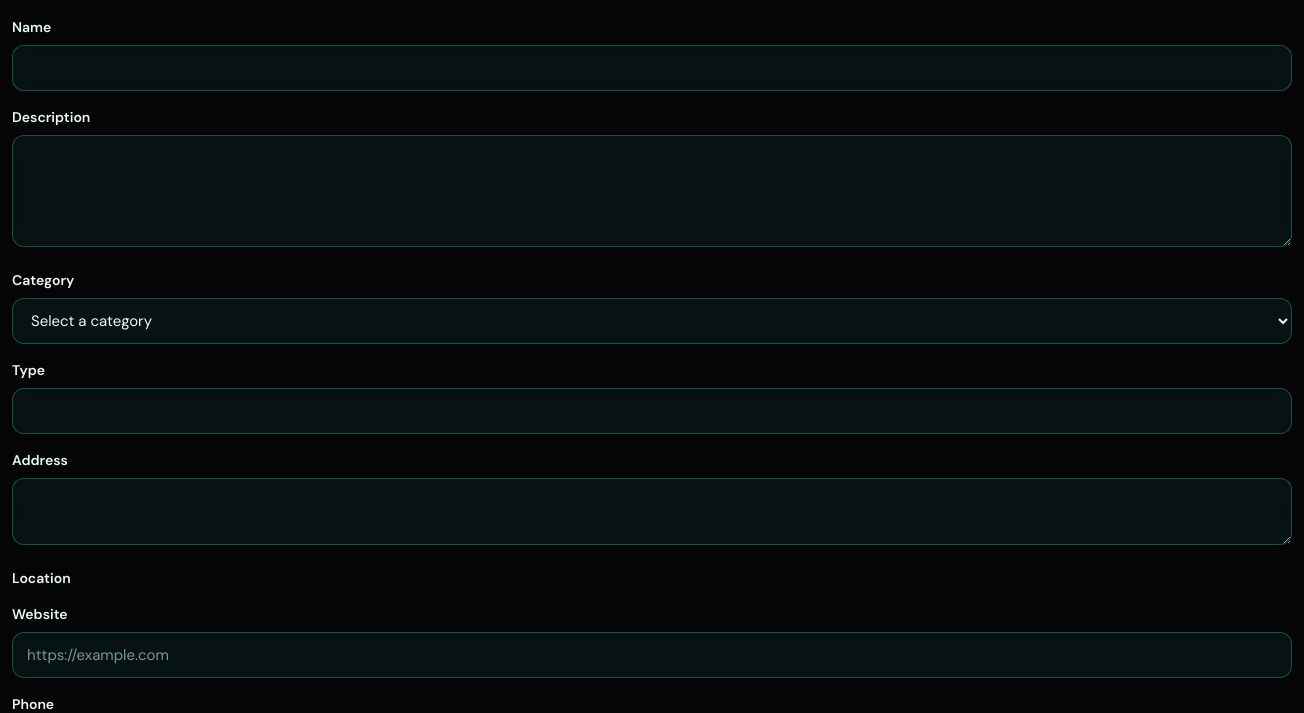
Test: BusinessForm (map-based location, D7-31) › shows location errors under the map when nothing was picked
Type "Playa Azul Hotel" into the field labelled "Name" at {"x": 652, "y": 68}, box 12,45 -> 1292,91
Type "Beachfront rooms in Puerto Viejo." into the text box labelled "Description" at {"x": 652, "y": 191}, box 12,135 -> 1292,247
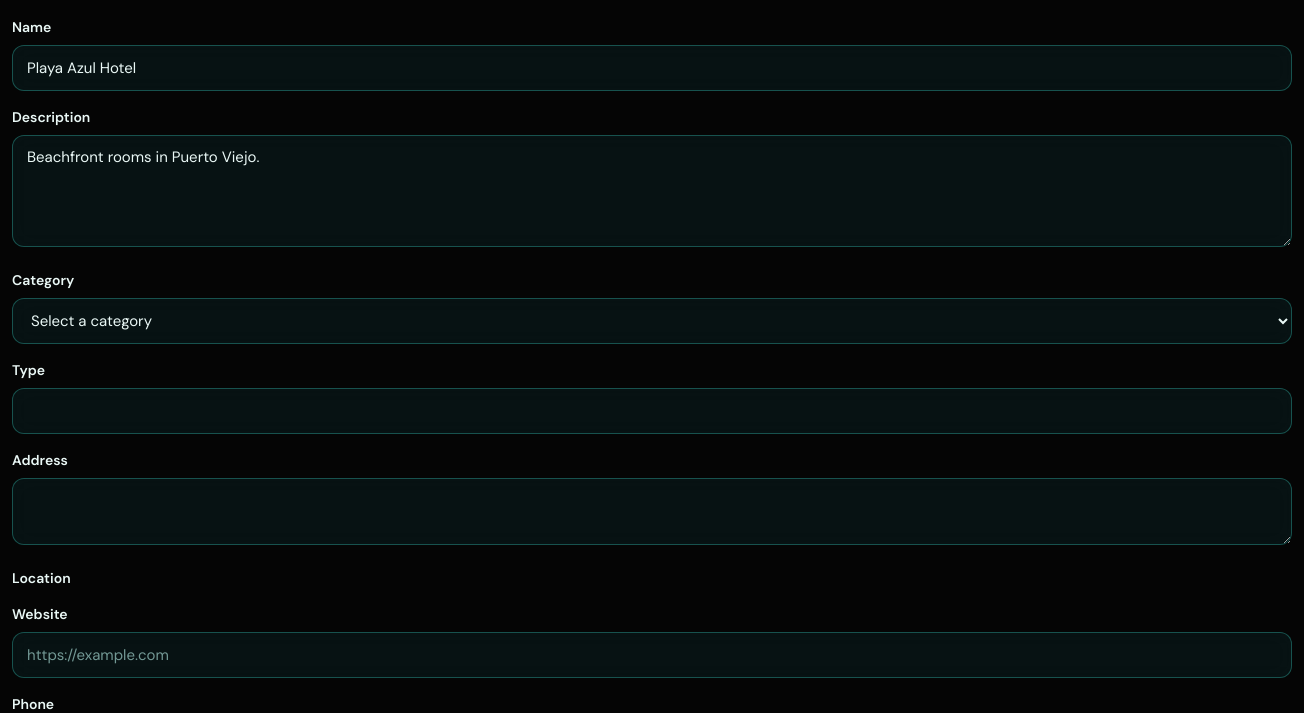
Select "Hotels" in the dropdown labelled "Category" at {"x": 652, "y": 321}, box 12,298 -> 1292,344
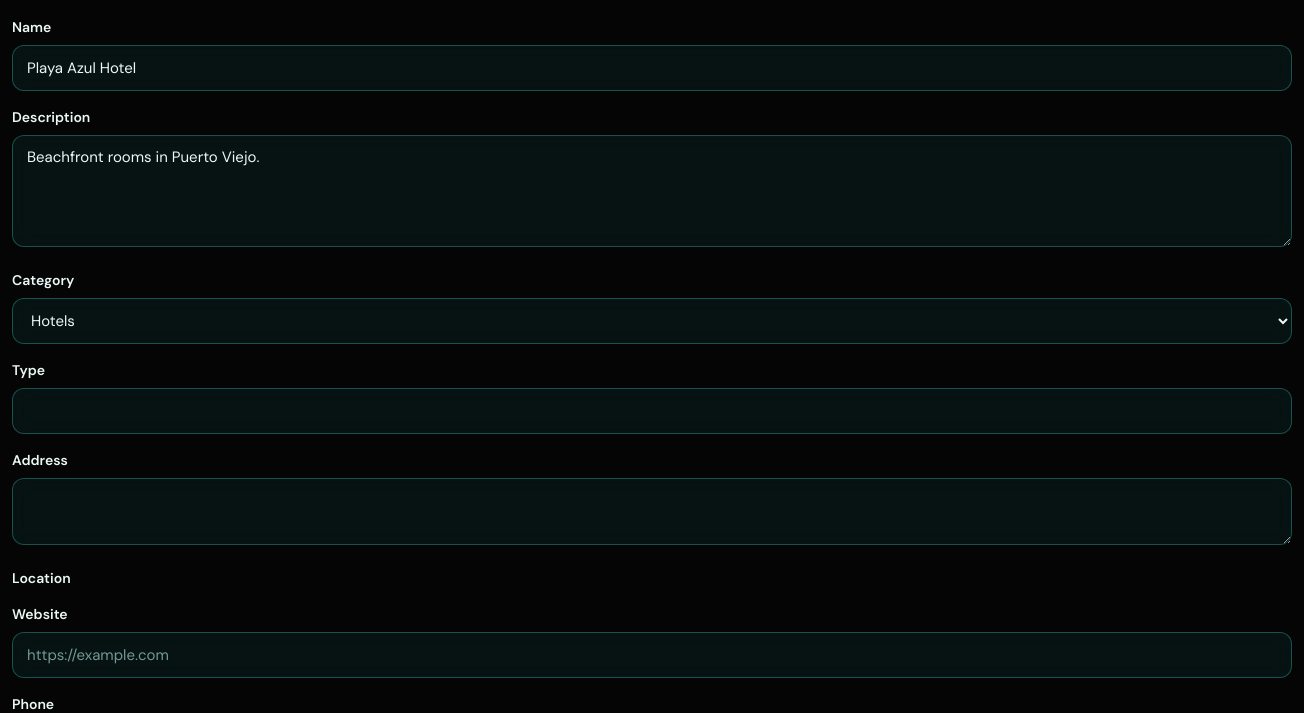
Type "Hotel" into the field labelled "Type" at {"x": 652, "y": 411}, box 12,388 -> 1292,434
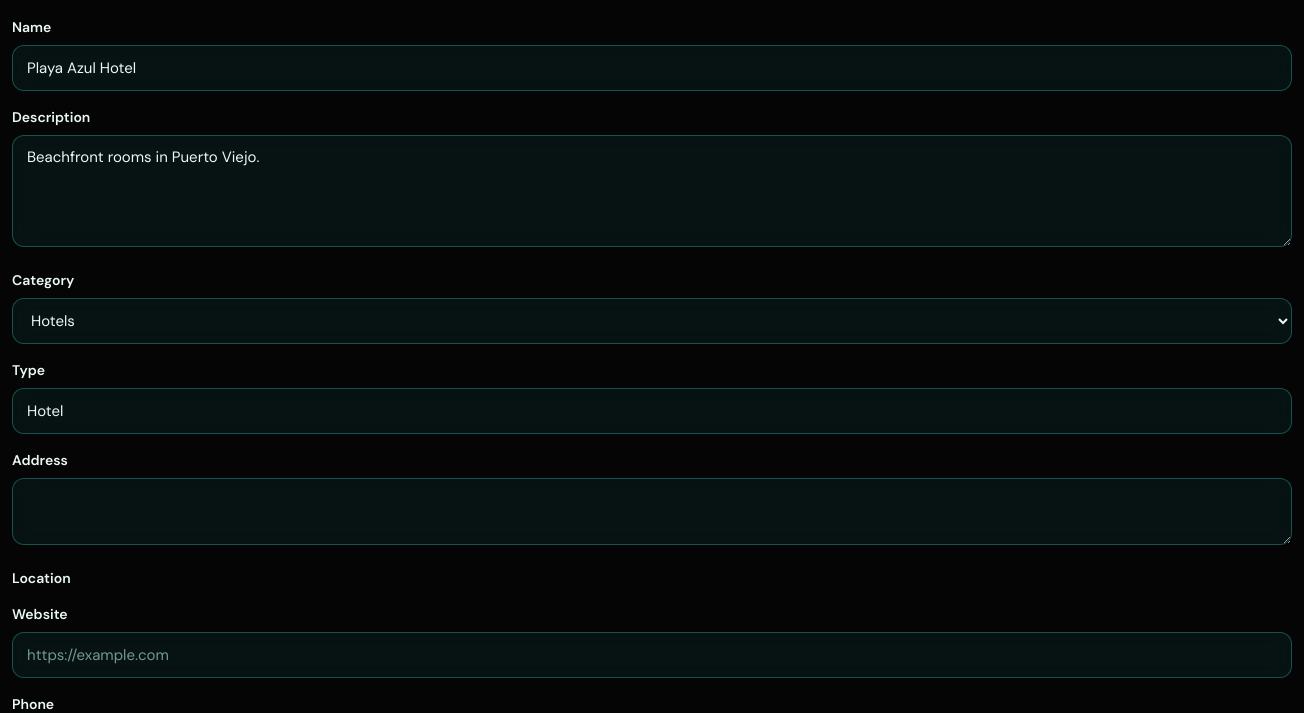
Type "Calle 1, Puerto Viejo" into the text box labelled "Address" at {"x": 652, "y": 512}, box 12,478 -> 1292,545
(page scrolled)
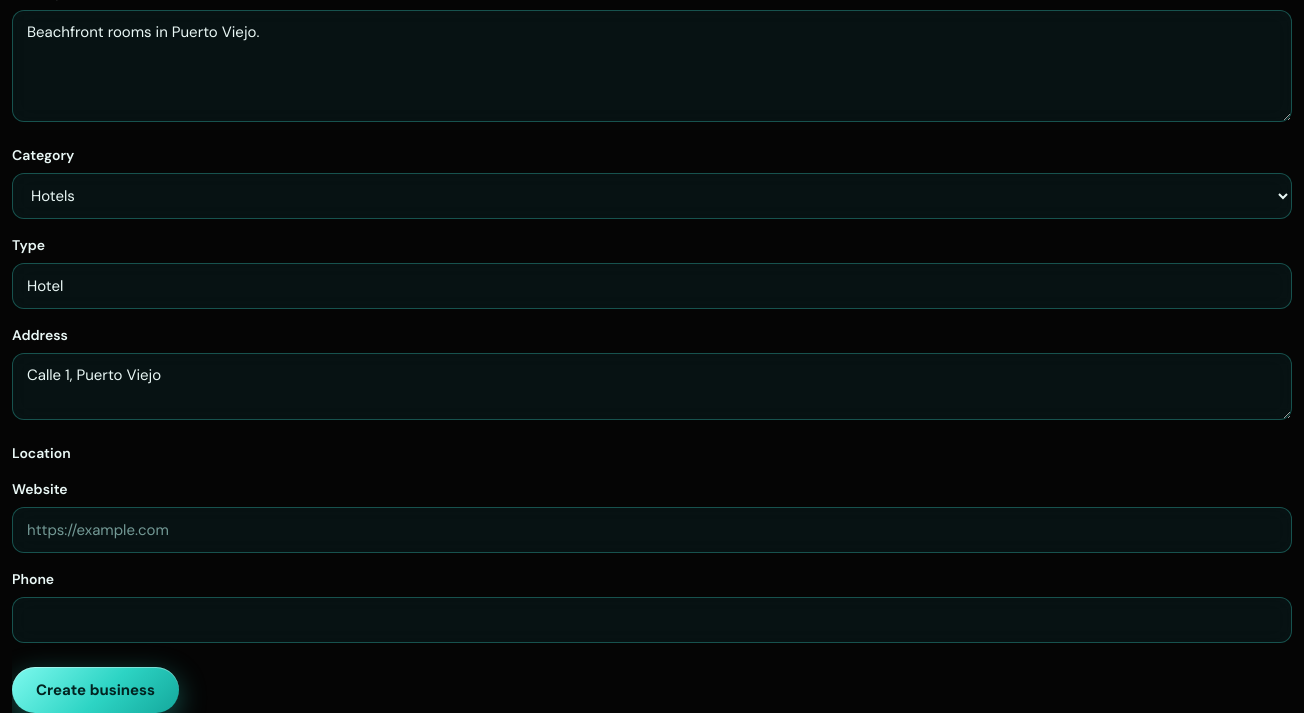
Type "+506 2000-1234" into the field labelled "Phone" at {"x": 652, "y": 620}, box 12,597 -> 1292,643
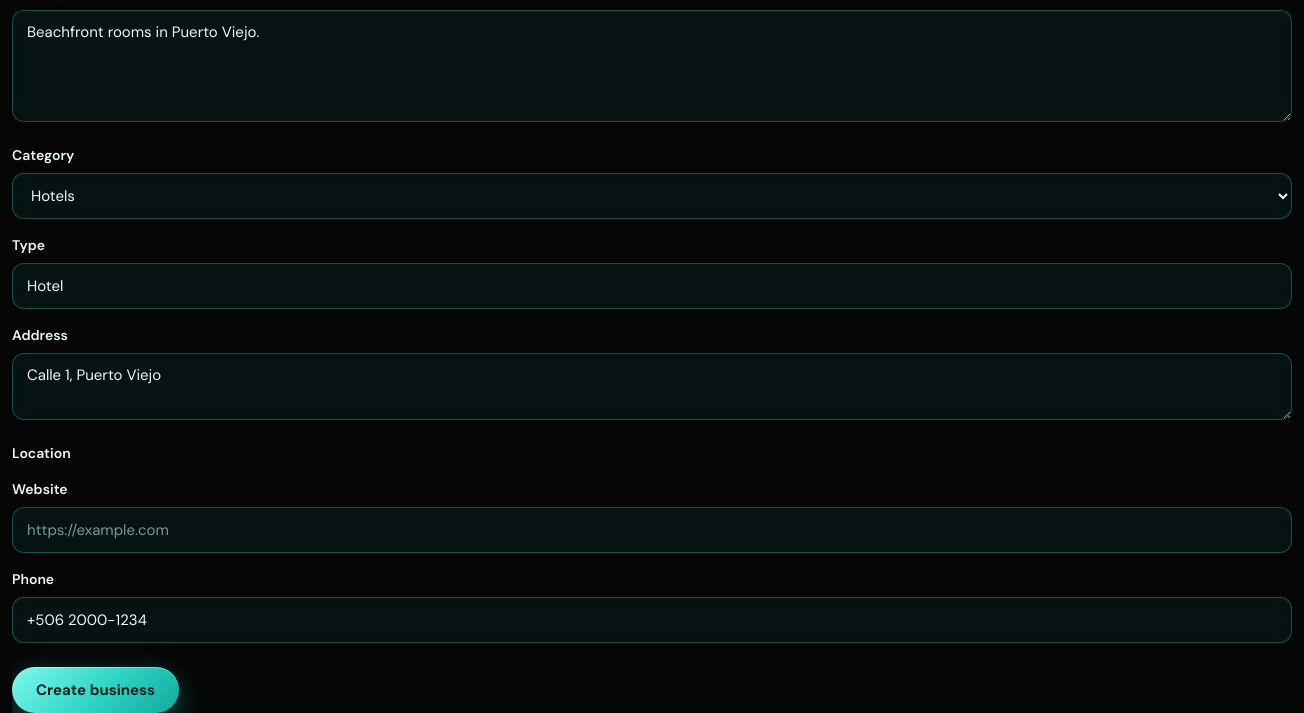
Click the button "Create business" at {"x": 96, "y": 690}, box 12,667 -> 179,712
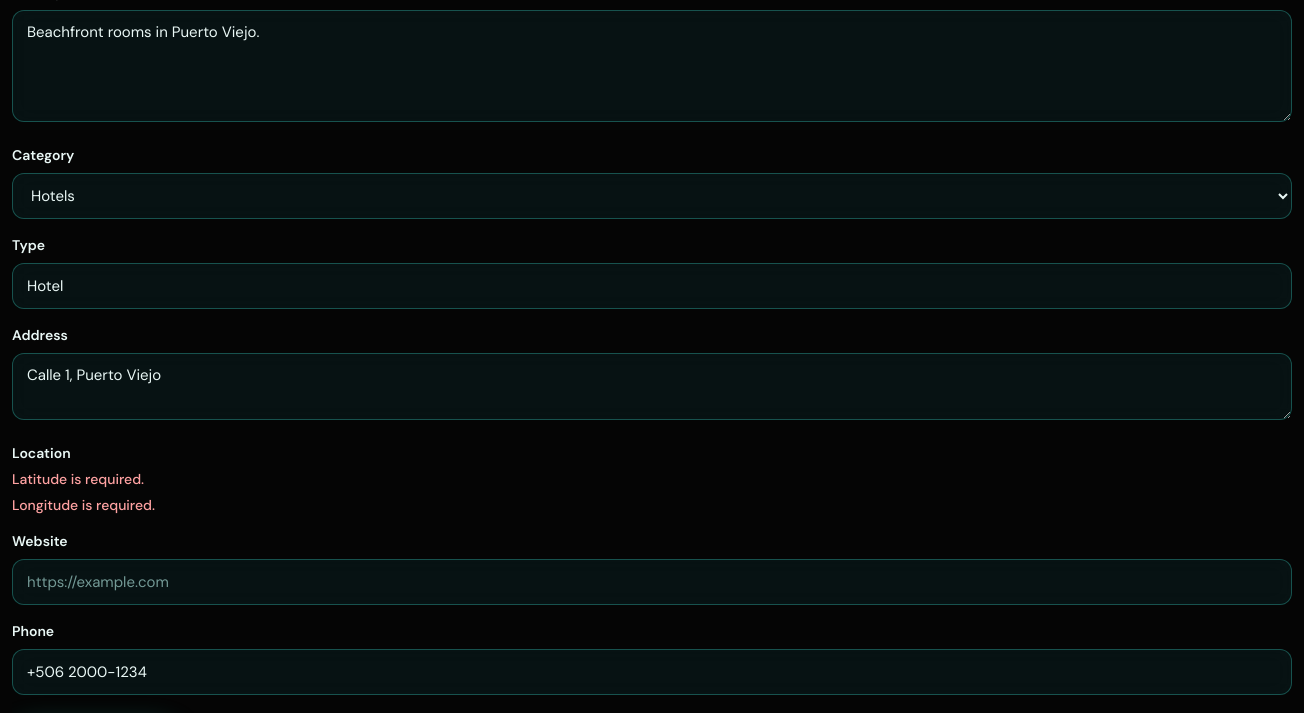
Now the text "Latitude is required." is shown, box 12,470 -> 144,488
Now the text "Longitude is required." is shown, box 12,496 -> 155,514
